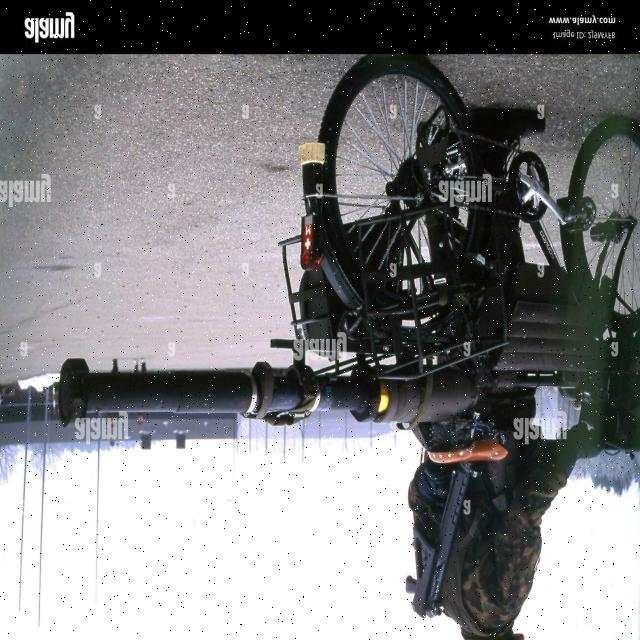bazooka: (55, 359, 395, 429)
